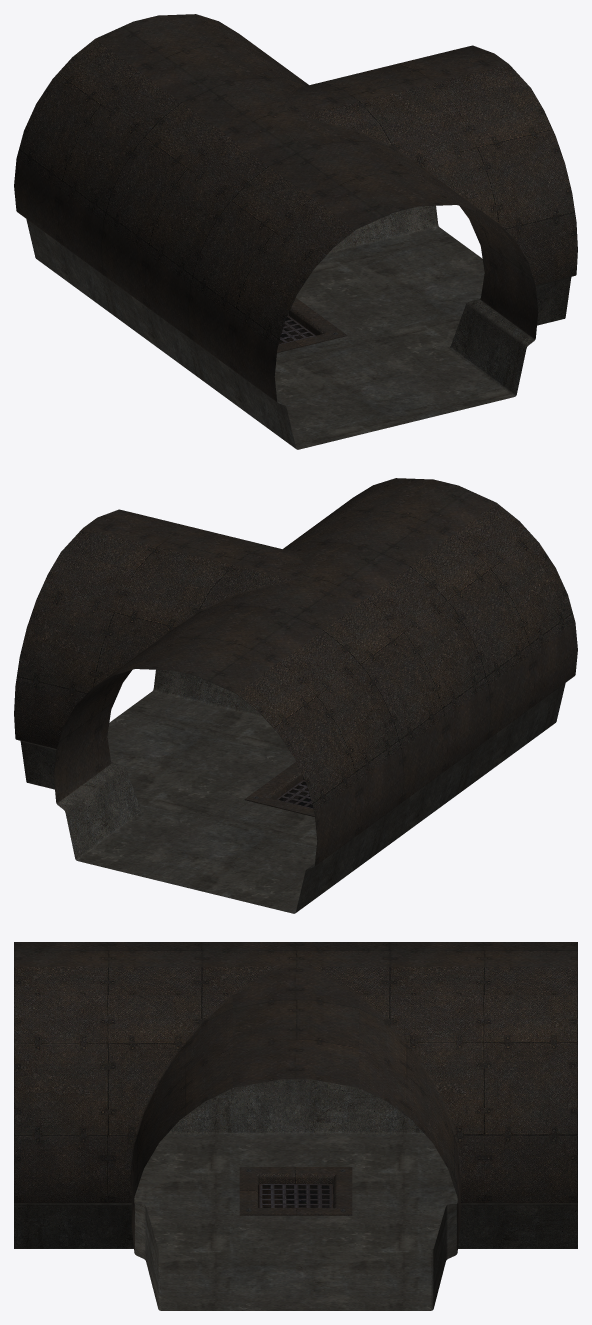
File: tunnel_junction_three_way.glb
3 views of the same model, one above another, from view 1: azimuth 30°, elevation 25°; view 2: azimuth 150°, elevation 25°; view 3: azimuth 270°, elevation 25° (orthographic). The views are drawn at different scales.
Visible parts, largest first — view 1: tunnel_junction_three_way; view 2: tunnel_junction_three_way; view 3: tunnel_junction_three_way.
Part boxes in pixels (left/top/right/bottom): tunnel_junction_three_way: left=14, top=14, right=577, bottom=449; tunnel_junction_three_way: left=14, top=478, right=577, bottom=913; tunnel_junction_three_way: left=14, top=942, right=577, bottom=1310.
Size of the model in its own units: 4.75 by 2.82 by 6.
Materials: 4 (4 with a texture image).
